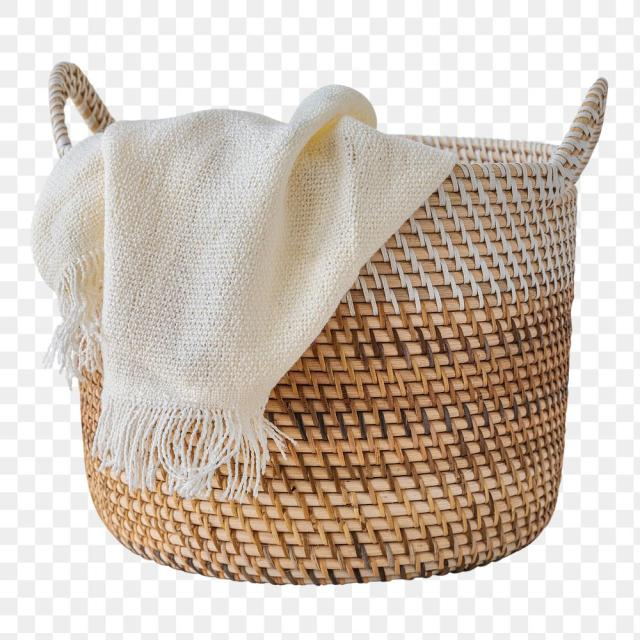blanket: (34, 86, 456, 500)
